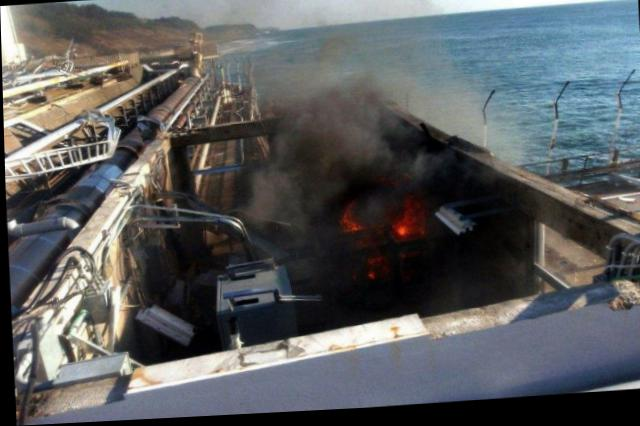fire: (332, 171, 430, 282)
